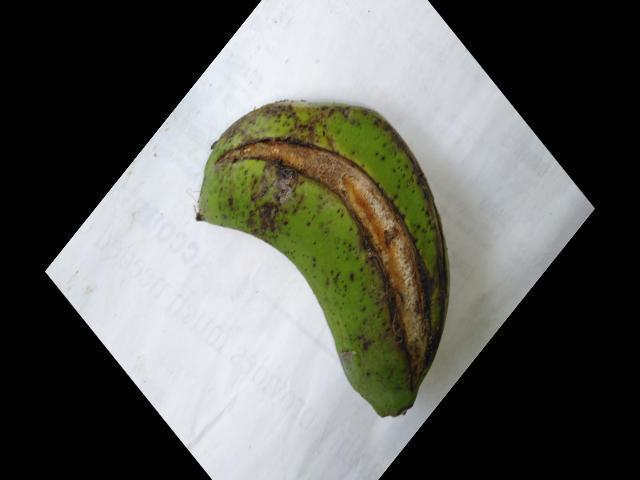rotten: (205, 122, 438, 374)
